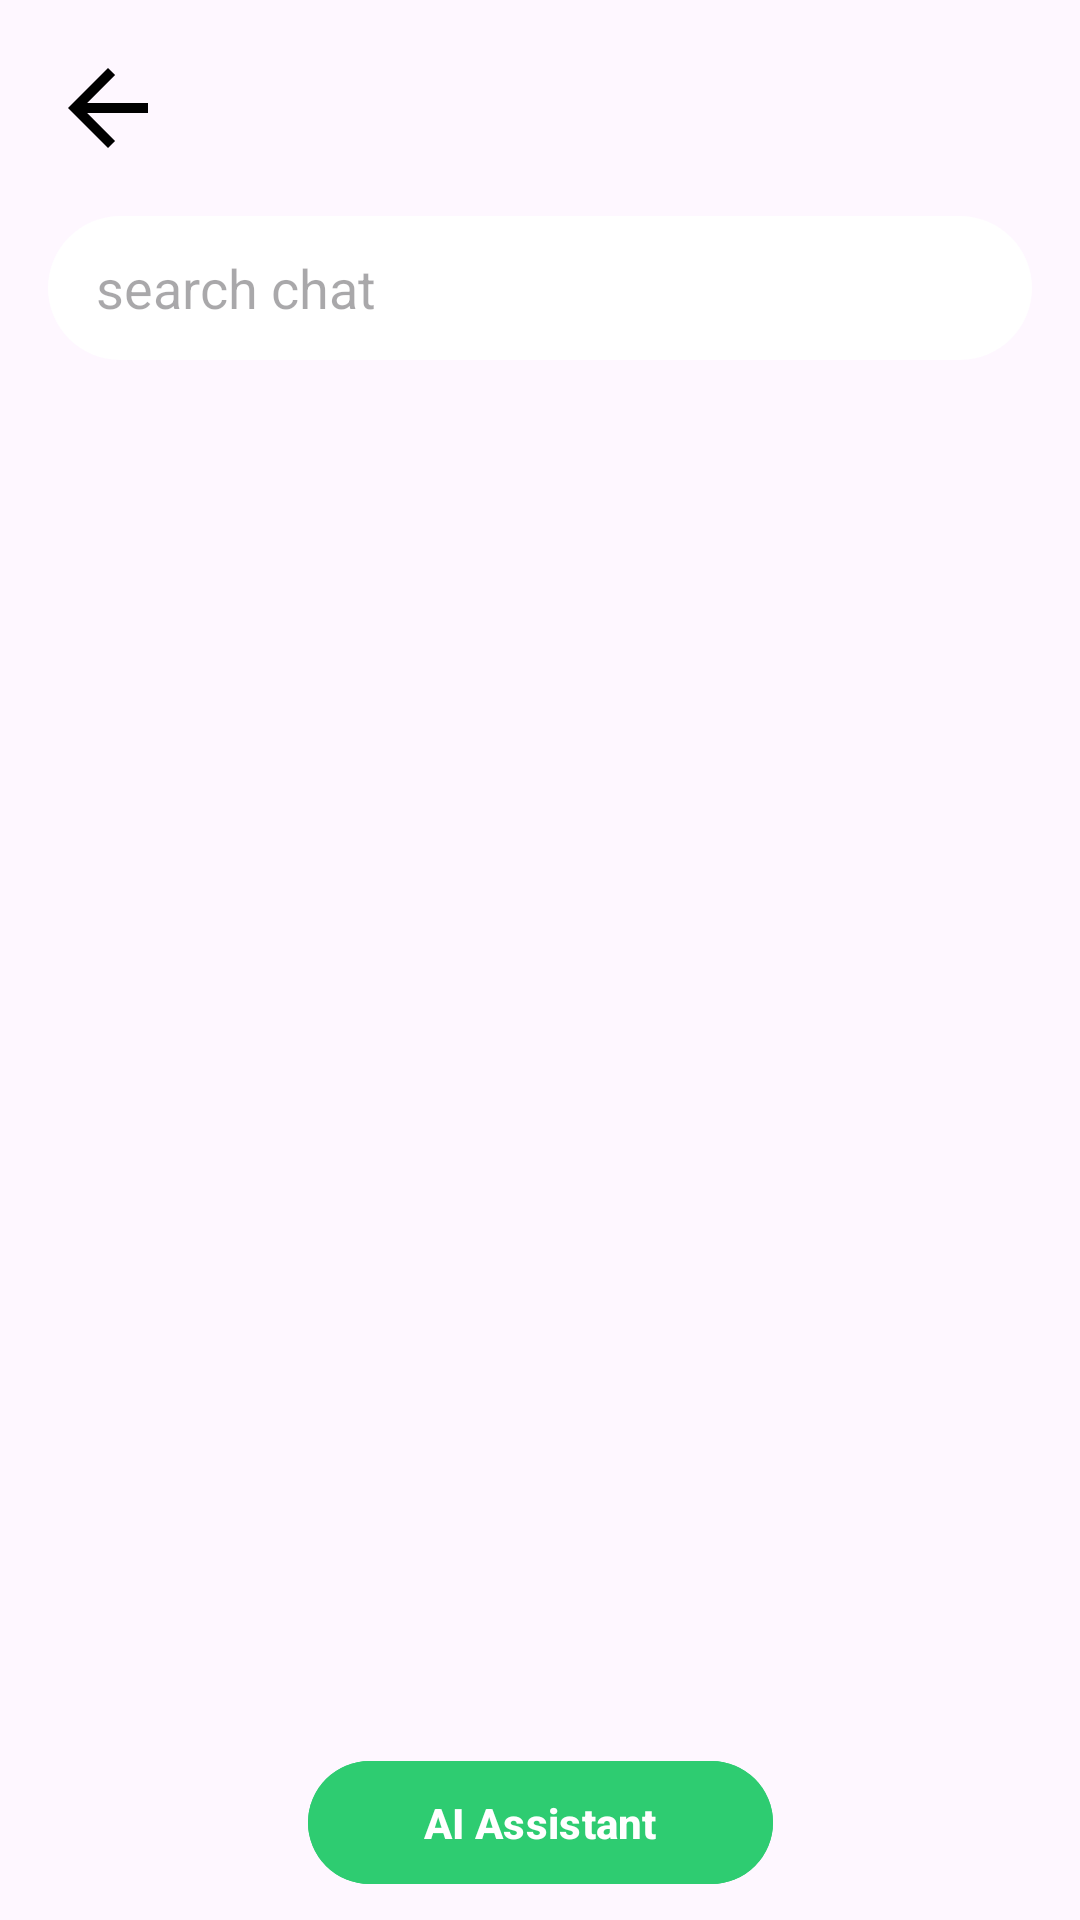

Where to tap for icons on this 1080 × 1920 app screen, as point (x, y):
arrow back: point (108, 108)
